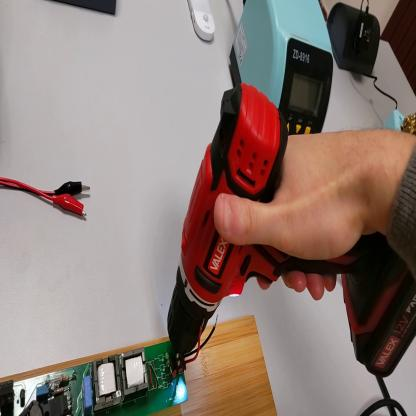electric screwdriver: (171, 89, 416, 378)
hand: (213, 129, 374, 297)
high voltage board: (2, 311, 219, 416)
socket: (330, 3, 382, 79), (320, 4, 331, 28)
welder base: (385, 102, 416, 136)
welder station: (229, 2, 336, 137)
working area: (3, 314, 278, 415)
